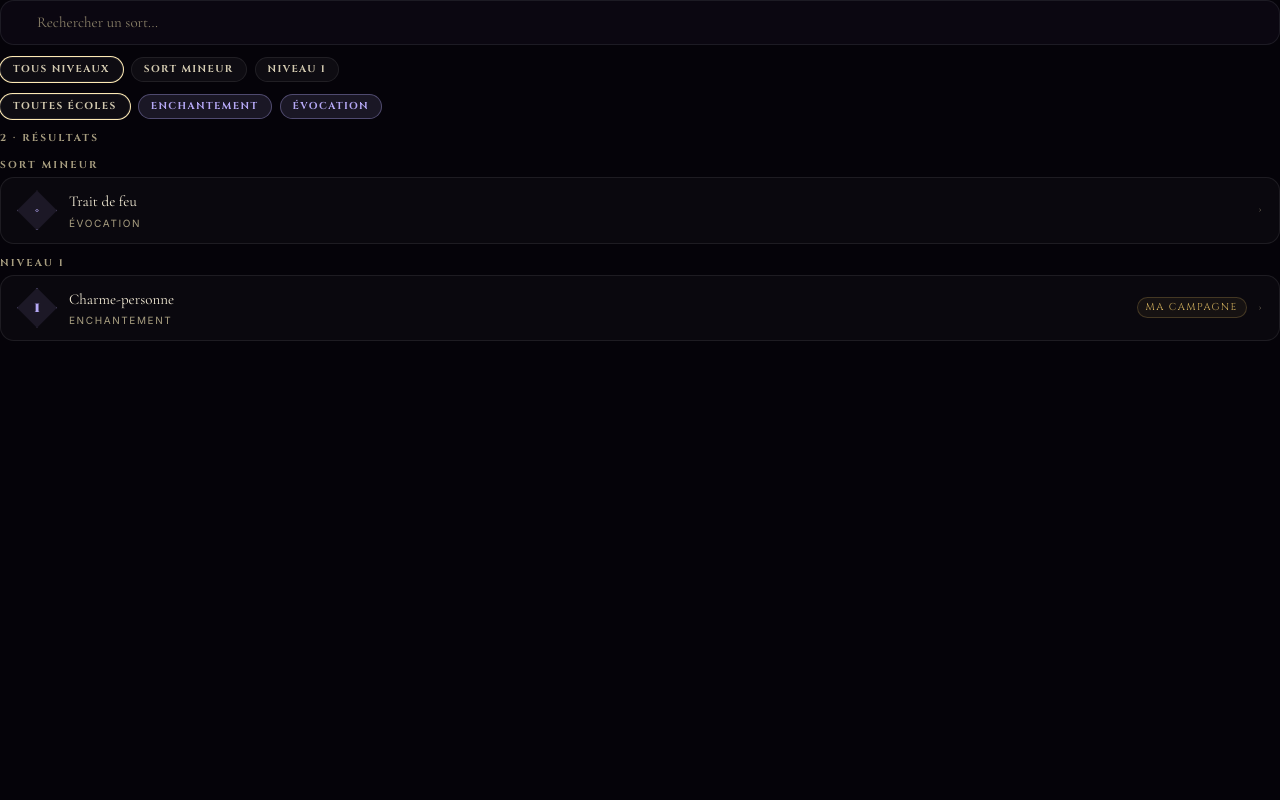
SpellBrowser (Codex) › ouvre la modale détail avec les champs EXACTS du sort
Click the text "Trait de feu". click: click(103, 201)
box: [69,192,137,210]
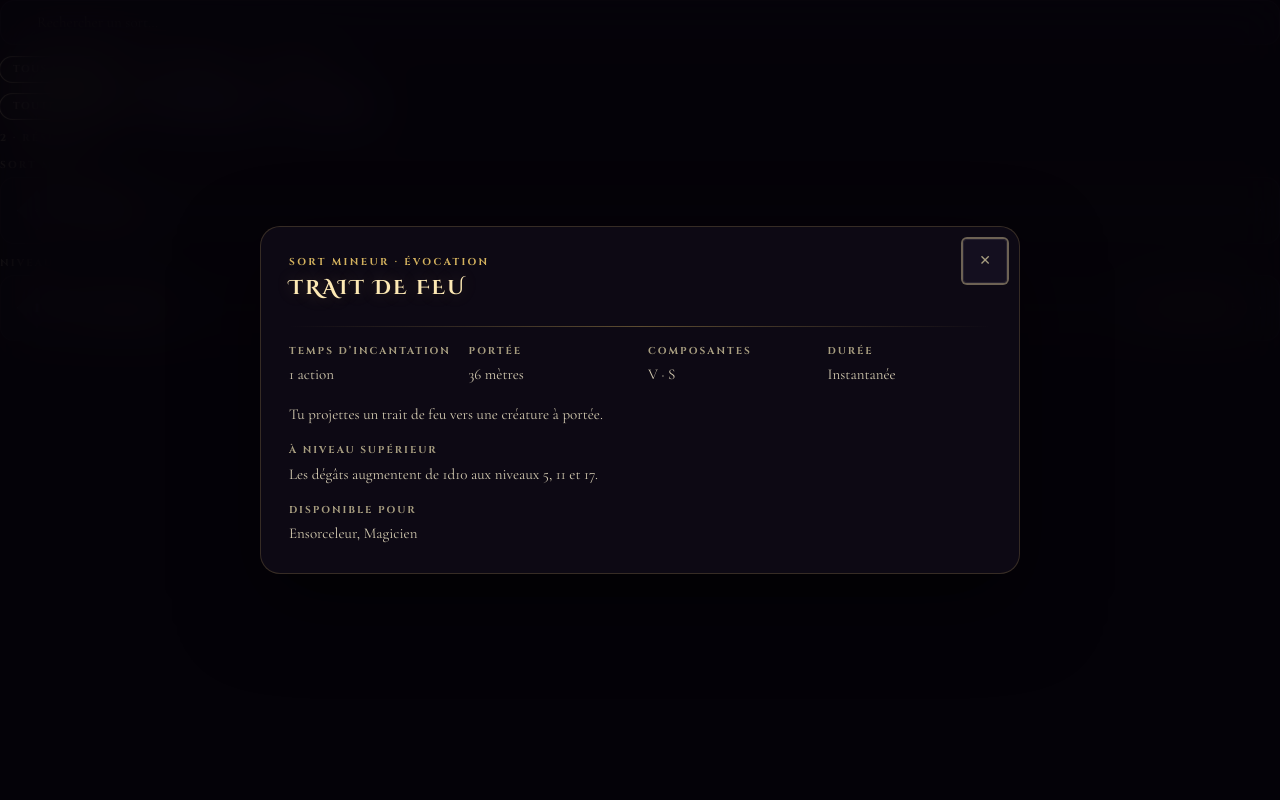
Now the text "Sort mineur · Évocation" is shown, box [289,255,490,269]
Now the text "Instantanée" is shown, box [828,365,896,383]
Now the text "36 mètres" is shown, box [468,365,524,383]
